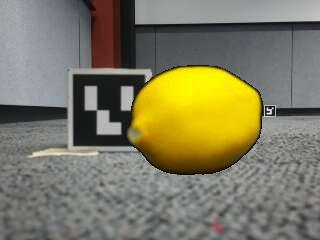lemon: (129, 66, 263, 175)
